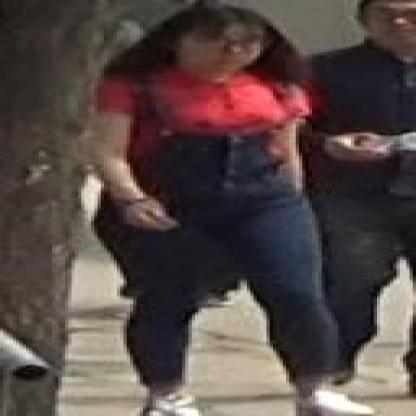adult: (62, 1, 385, 416), (294, 1, 416, 401)
